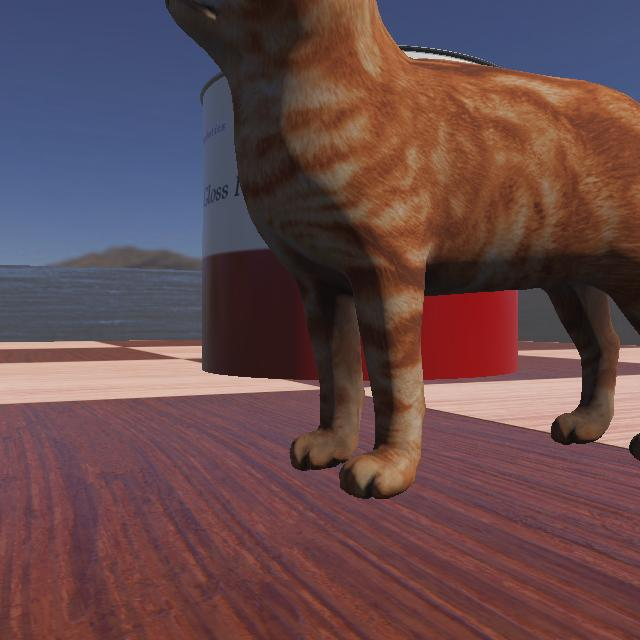cat: (125, 1, 640, 516)
